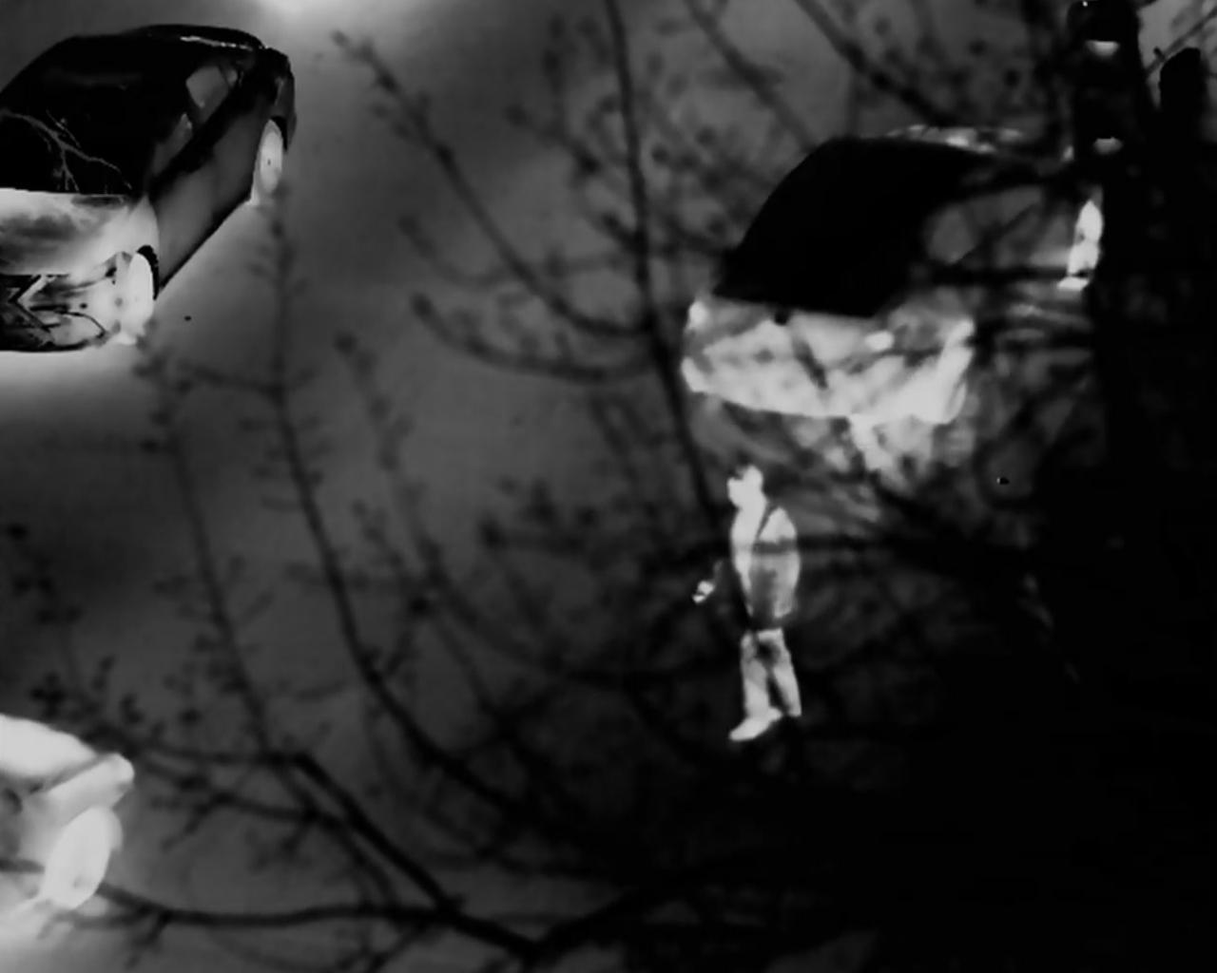person: (699, 460, 804, 736)
